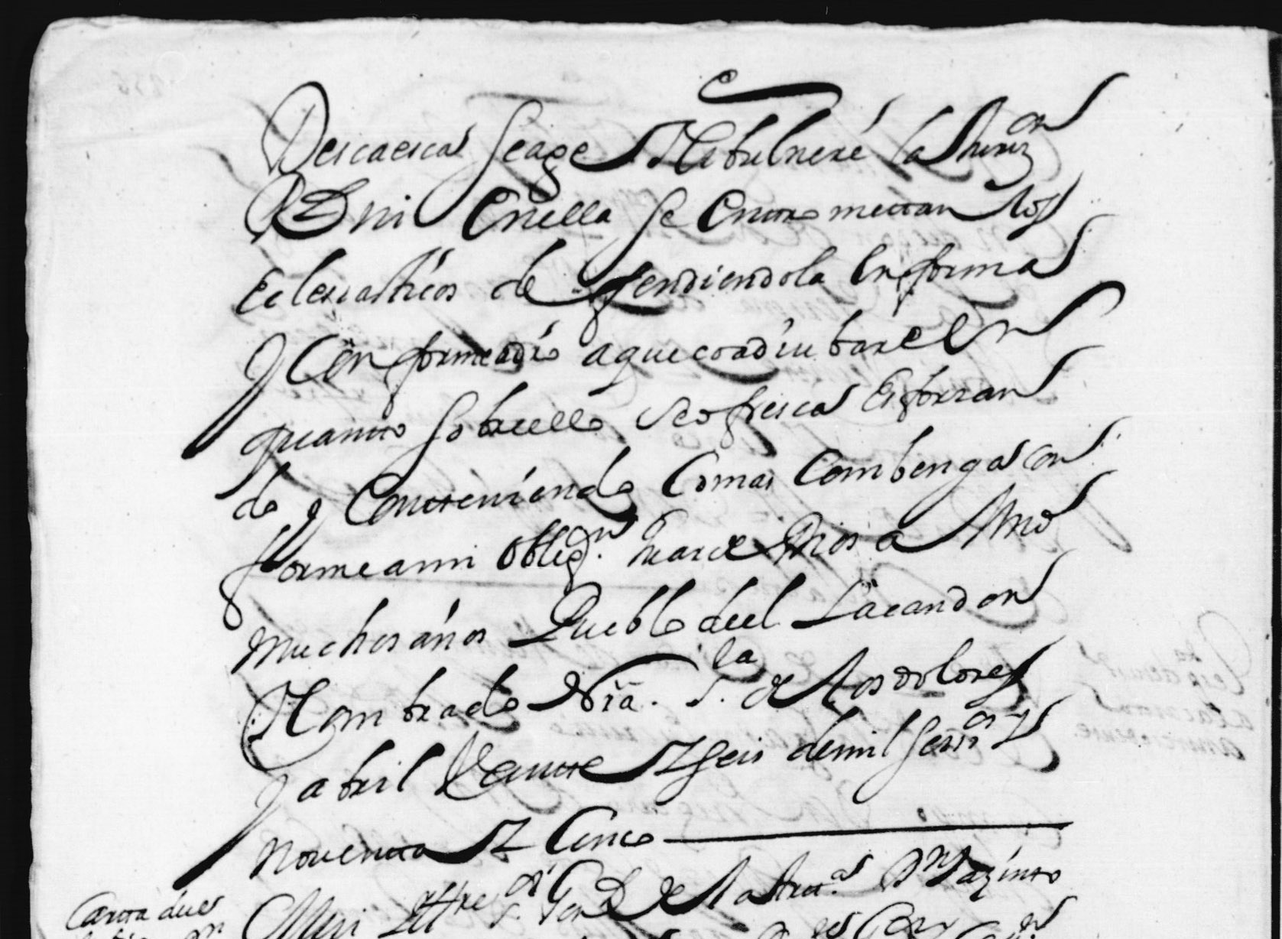lacandon: (790, 548, 1075, 629)
